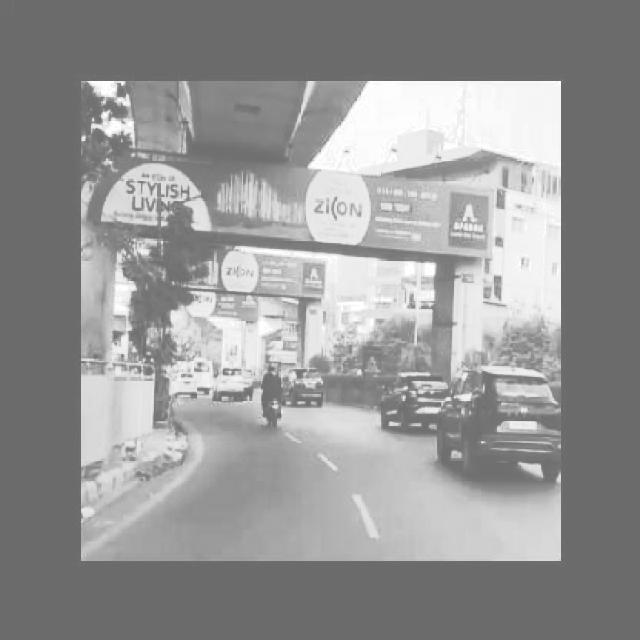Car: (446, 364, 563, 488), (372, 368, 446, 432), (282, 362, 329, 408), (212, 359, 252, 406), (172, 358, 203, 409)
